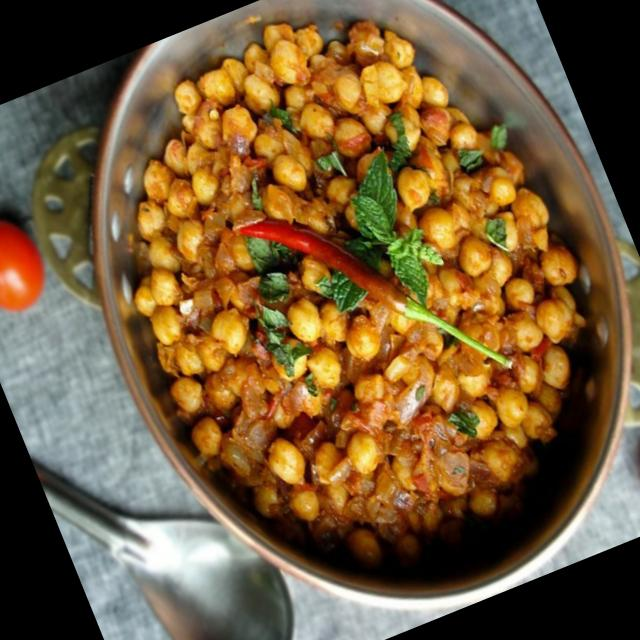Chole: (52, 0, 640, 621)
